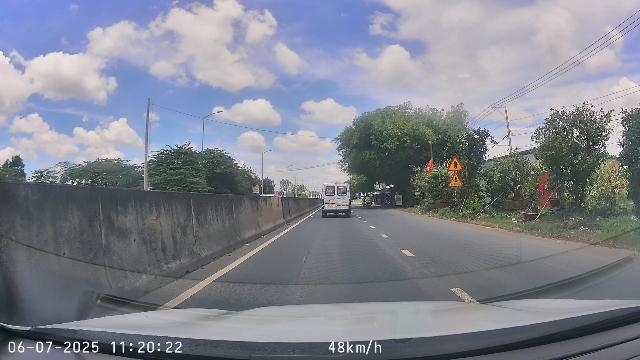207-giao-nhau-voi-duong-khong-uu-tien: (447, 155, 464, 171)
224-duong-nguoi-di-bo-cat-ngang: (448, 172, 463, 188)
